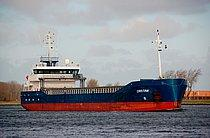Ship: (14, 46, 188, 112)
